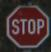Stop sign: (0, 0, 50, 51)
